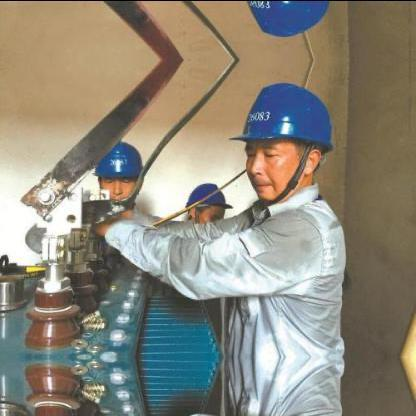Helmet: (221, 74, 335, 202), (220, 0, 336, 43), (90, 138, 146, 206), (178, 177, 230, 229)
